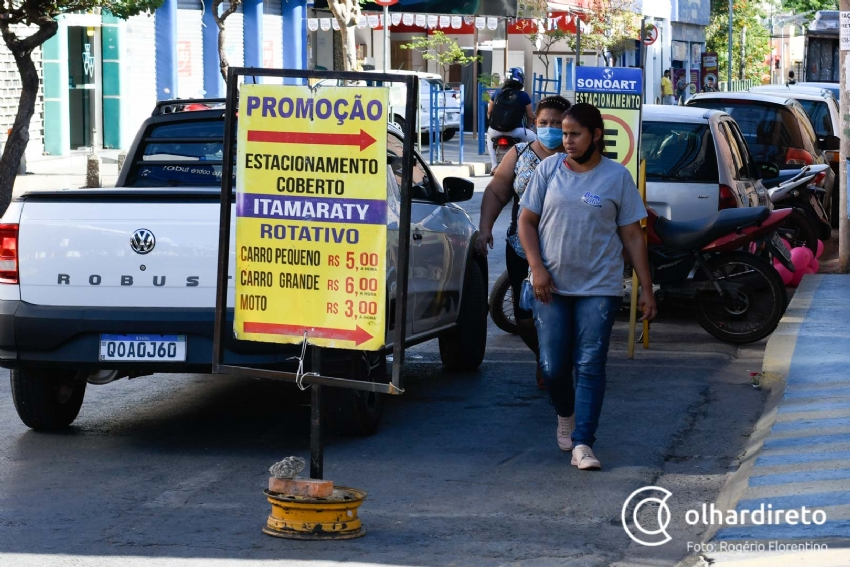mask_weared_incorrect: (562, 111, 604, 167)
